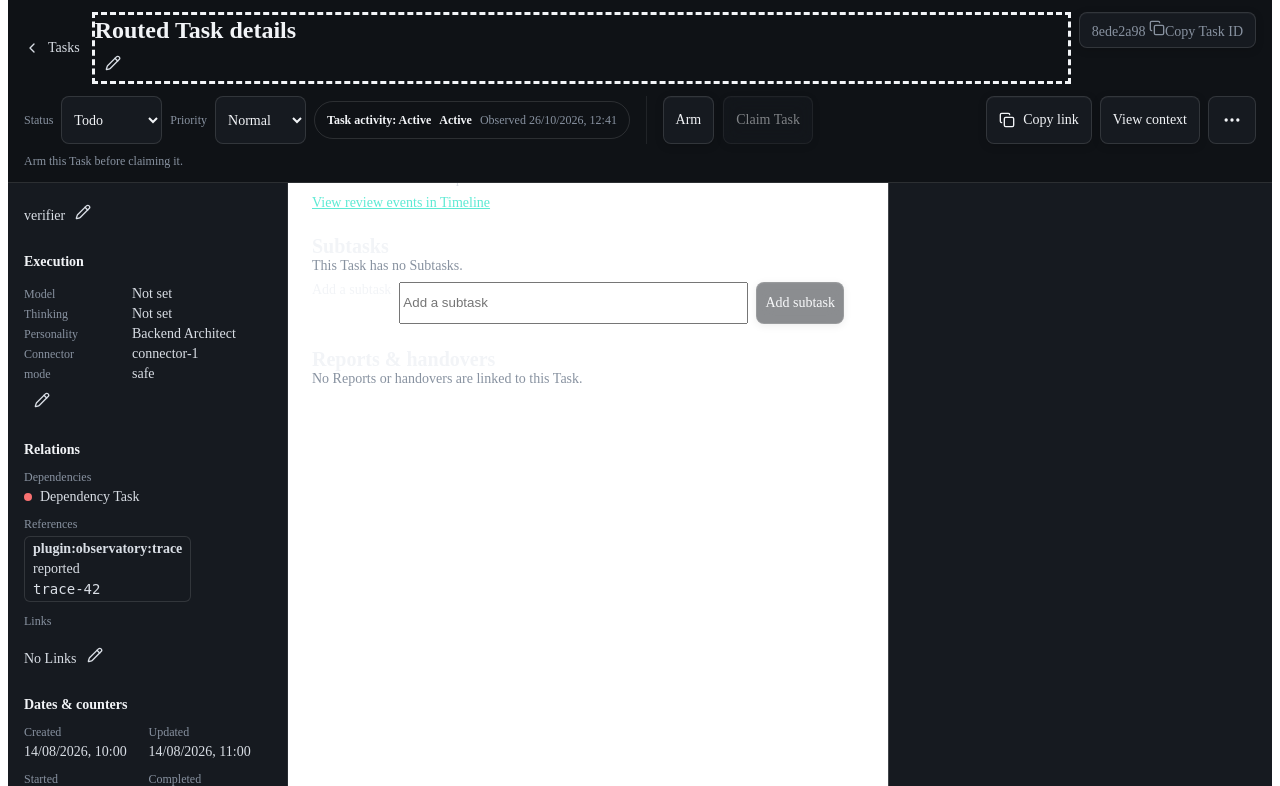
Test: TaskDetailPage routing › opens the descriptor-driven Execution editor without writing the legacy profile
(page scrolled)
Expected: the heading "Routed Task details" is shown, [95, 17, 296, 43]
What coordinates should you click on to do the following:
click the button named "Edit Execution"
I would click on:
 (42, 400)
Its box is [24, 382, 60, 418].
(page scrolled)
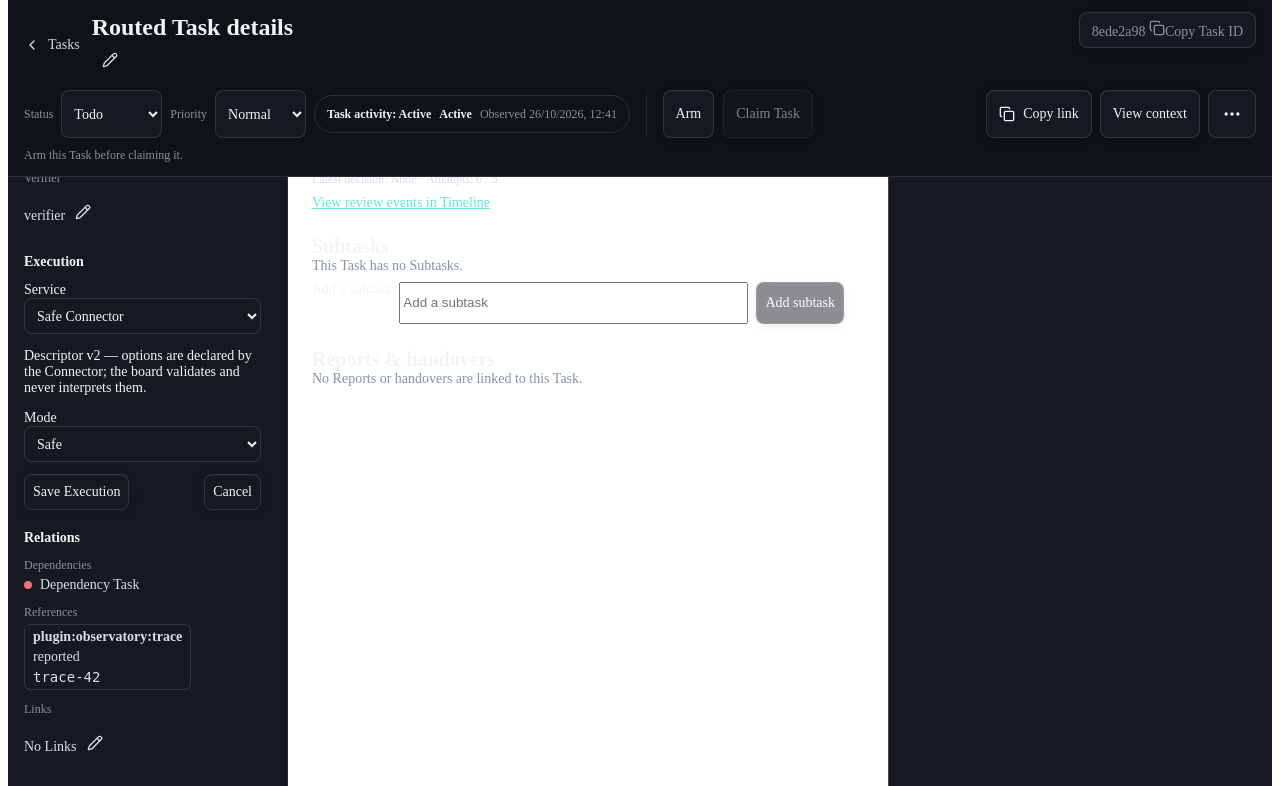
Now the dropdown labelled "Service" shows "Safe Connector", box [24, 298, 261, 334]
Now the dropdown labelled "Mode" shows "Safe", box [24, 426, 261, 462]
Now the text "Descriptor v2 — options are declared by the Connector; the board validates and never interprets them." is shown, box [24, 348, 261, 396]
